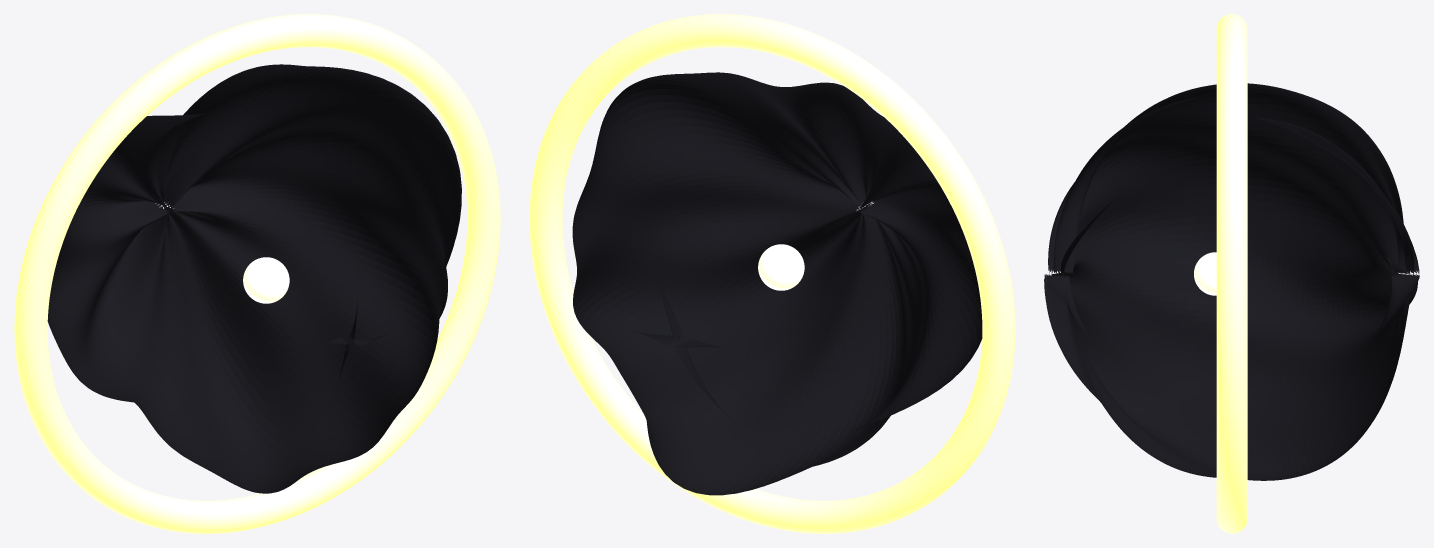
File: organic_glowing_orb.glb
3 views of the same model, side by side, from view 1: azimuth 30°, elevation 25°; view 2: azimuth 150°, elevation 25°; view 3: azimuth 270°, elevation 25° (orthographic). The views are drawn at different scales.
Visible parts, largest first — view 1: Organic_Black_Core, Glow_Ring, Central_Light; view 2: Organic_Black_Core, Glow_Ring, Central_Light; view 3: Organic_Black_Core, Glow_Ring, Central_Light.
Boxes of the visible parts, <box> form: Organic_Black_Core: <box>47,64,461,493</box>; Glow_Ring: <box>14,14,500,533</box>; Central_Light: <box>243,257,289,303</box>; Organic_Black_Core: <box>572,72,982,495</box>; Glow_Ring: <box>529,14,1015,533</box>; Central_Light: <box>758,244,804,290</box>; Organic_Black_Core: <box>1044,83,1419,480</box>; Glow_Ring: <box>1216,14,1247,533</box>; Central_Light: <box>1194,252,1216,295</box>.
Bounding box in the file's own units: 2.51 × 2.51 × 1.81.
